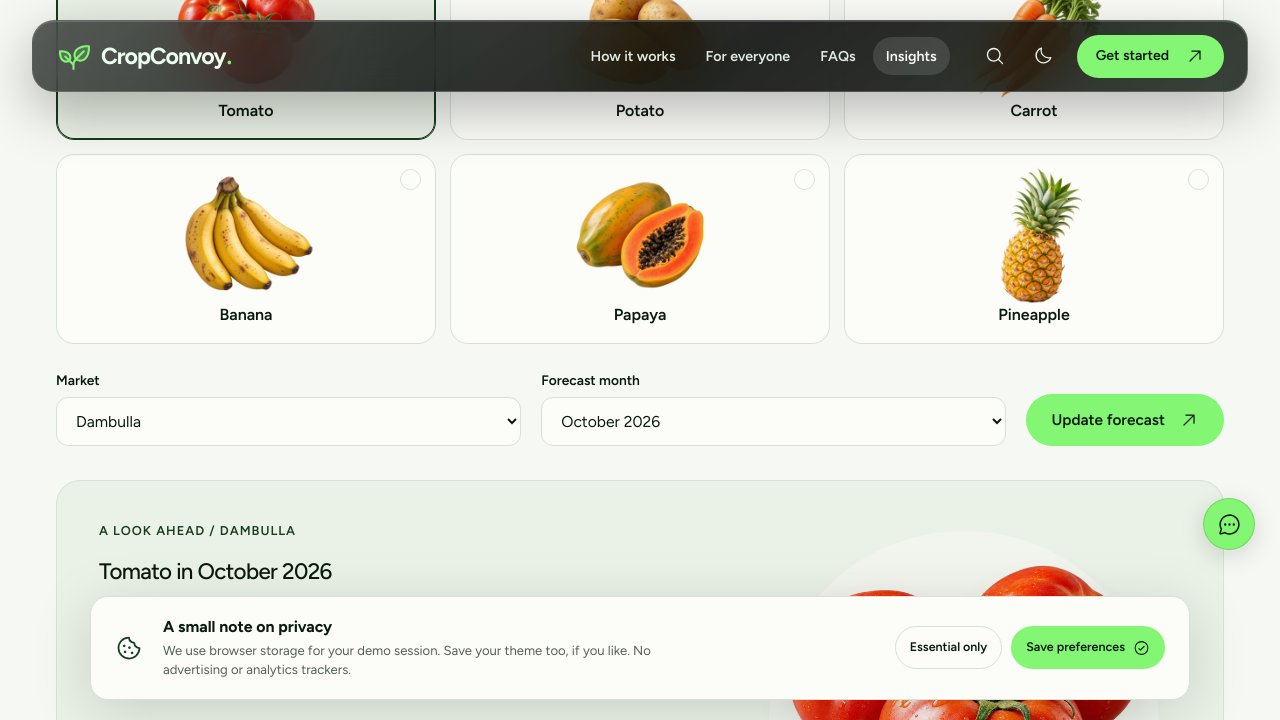
Test: Prediction demo › shows API field feedback and keeps inputs and previous results on failure
(page scrolled)
Check: the heading "Tomato in October 2026" is shown, box [99, 558, 332, 585]
Click the button "Update forecast" at (1125, 420), box [1026, 394, 1224, 446]
(page scrolled)
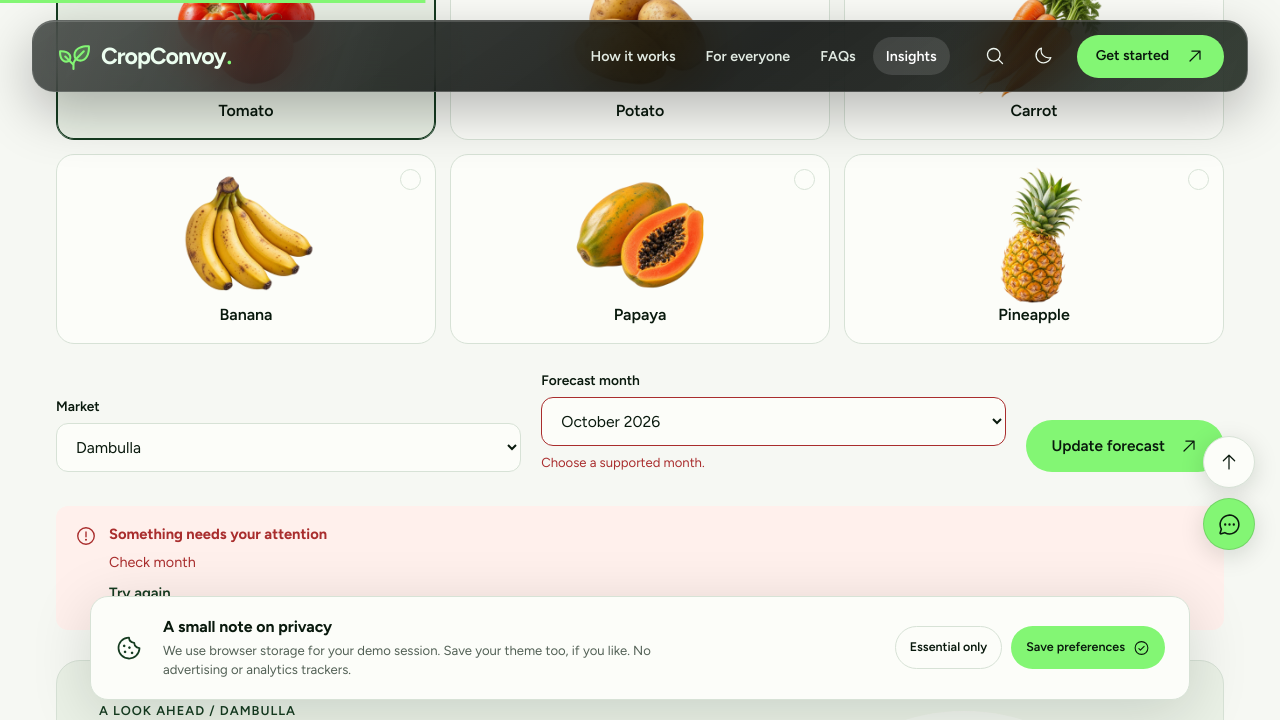
Check: the dropdown labelled "Forecast month" shows "October 2026", box [541, 397, 1006, 446]
Check: the text "Choose a supported month." is shown, box [541, 455, 705, 470]
Click the button "Try again" at (140, 593), box [109, 574, 171, 612]
(page scrolled)
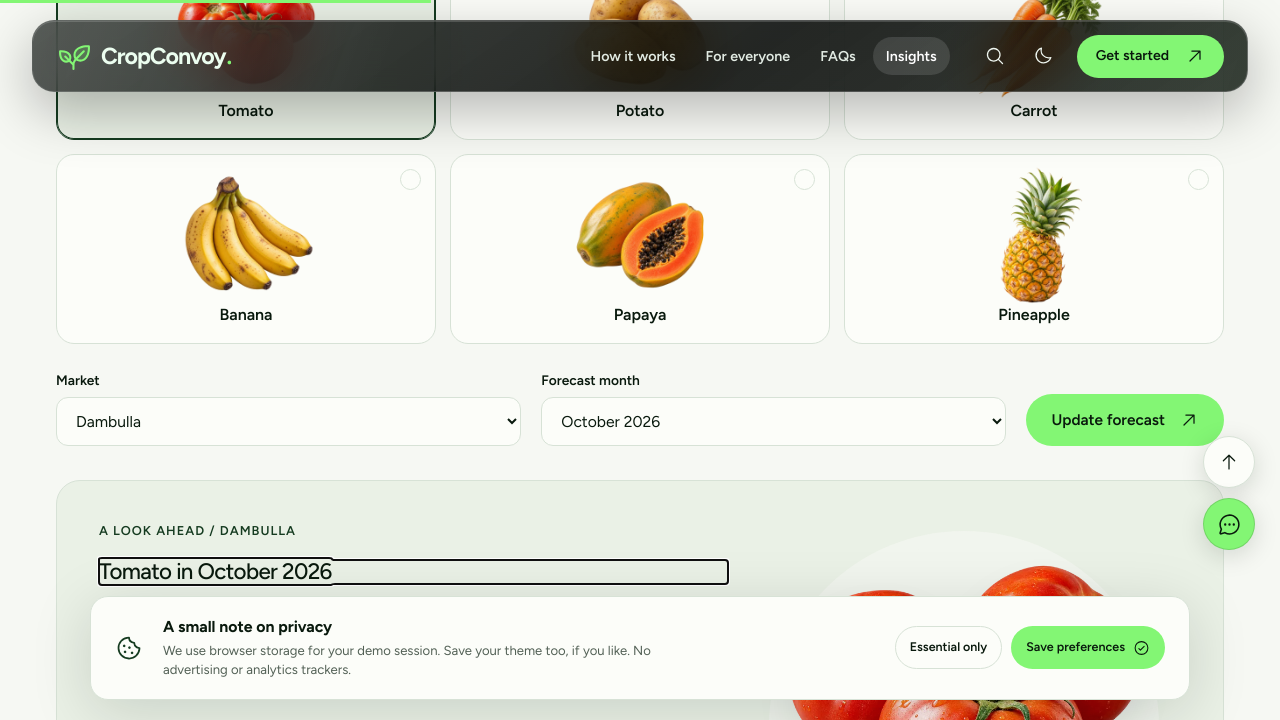
Check: the text "Check month" is gone
